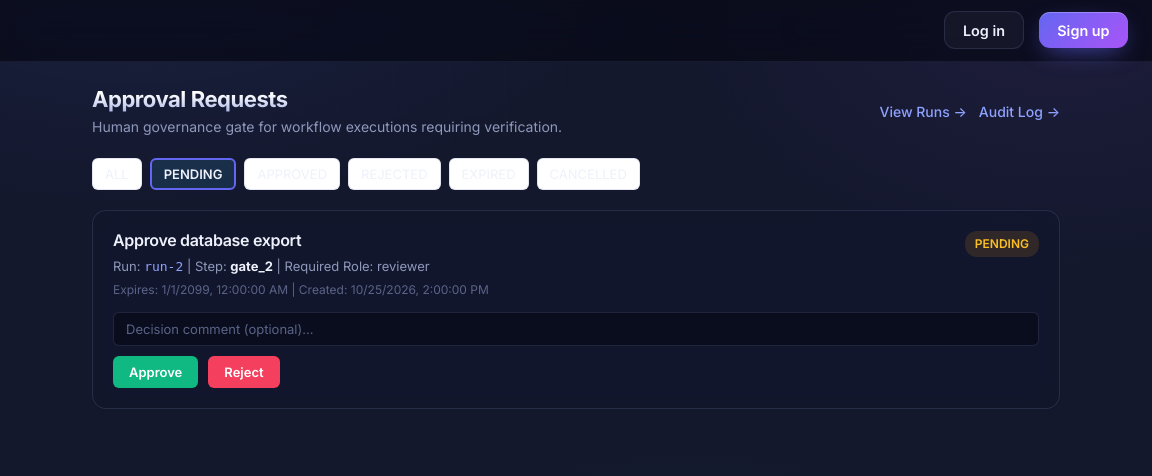
Test: Approvals Suite (P7-F01 & P7-F02) › P7-F02: submitting decision updates status and handles 409 conflict
Click the button with test id "approval-approve-btn-app-pending-2" at (156,372), box [113,356,198,388]
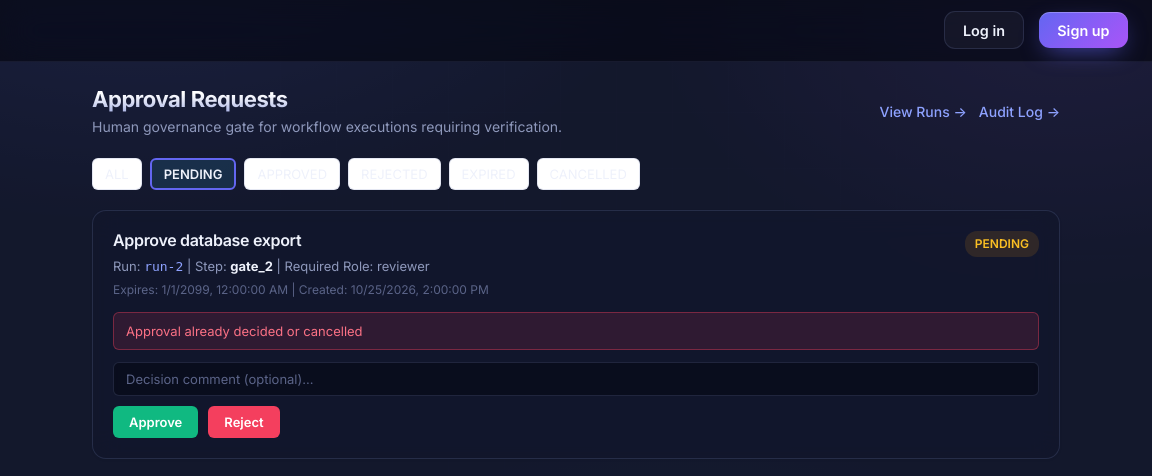
Check: the text with test id "approval-error-app-pending-2" reads "Approval already decided or cancelled", box [126,323,363,339]
Click the button with test id "approval-approve-btn-app-pending-2" at (156,422), box [113,406,198,438]
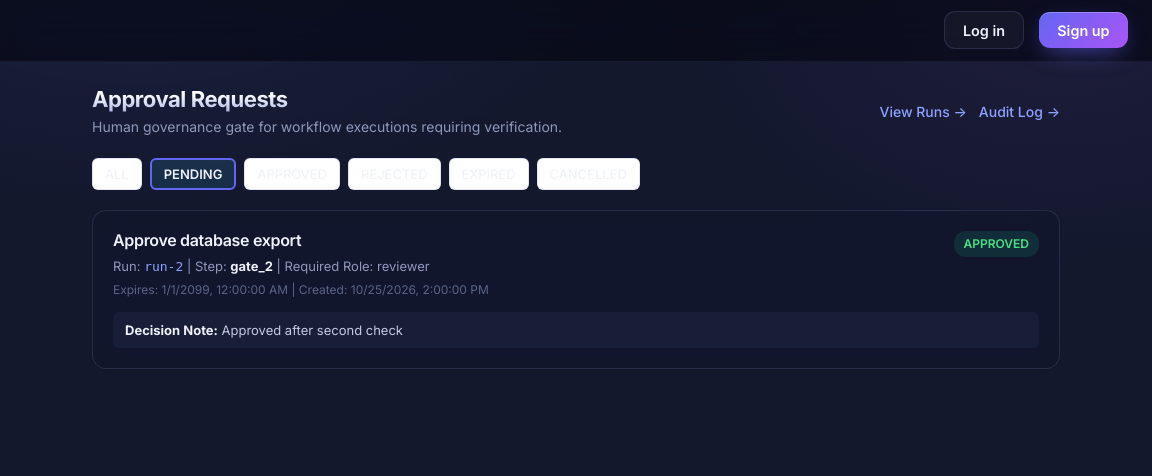
Check: the text with test id "approval-status-app-pending-2" reads "APPROVED", box [964,236,1029,251]
